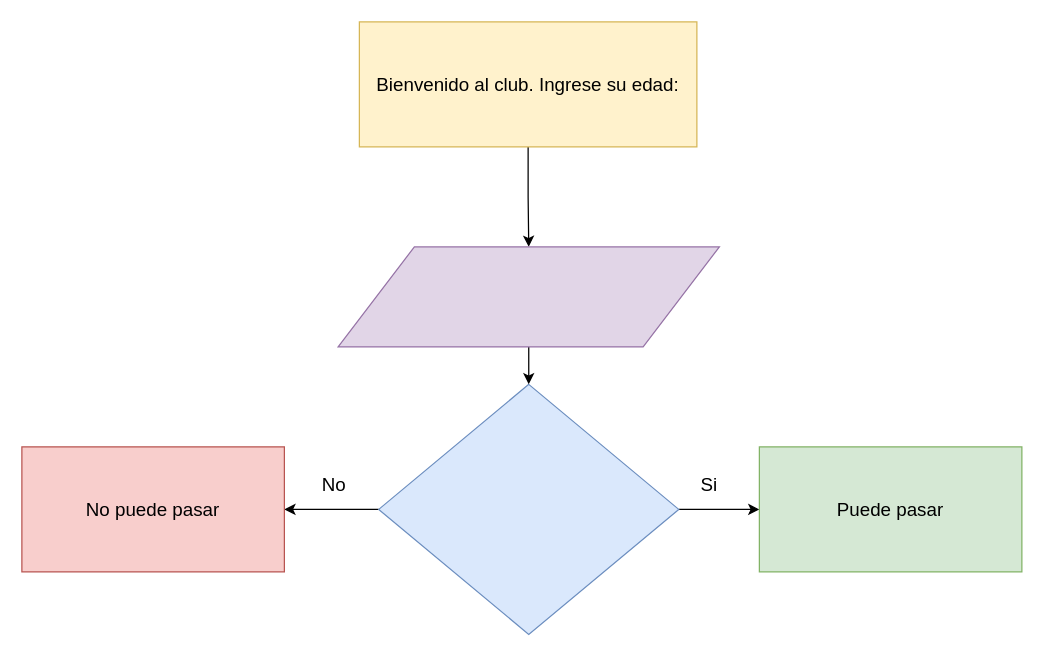
This 1044x656 diagram has some shape labels left out. The shapes that lost their labels are listed below. From the top down, each one's centre as x and y in pixels, then its label:
the point at 528,296: Input: edad
the point at 528,508: edad >= 18
